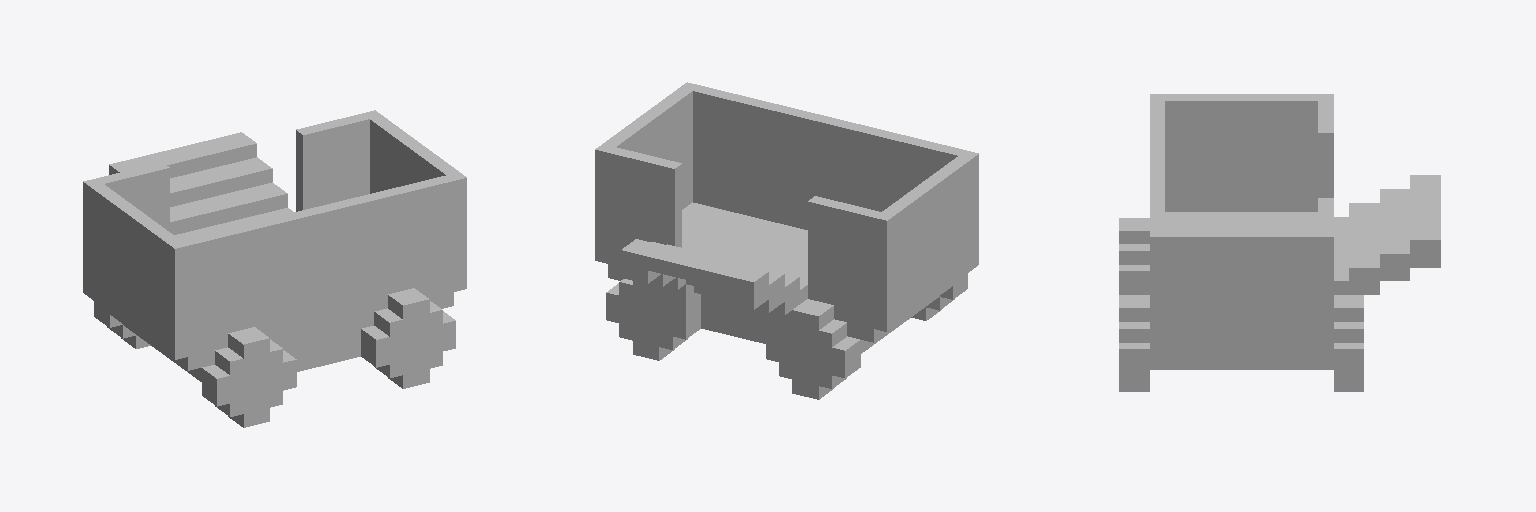
Rendered from mine cart open 0.66.obj.
3 views of the same model, side by side, from view 1: azimuth 30°, elevation 25°; view 2: azimuth 150°, elevation 25°; view 3: azimuth 270°, elevation 25° (orthographic).
Parts seen in each view (by area): view 1: object 1; view 2: object 1; view 3: object 1.
Boxes of the visible parts, x1=… form: object 1: x1=83, y1=110, x2=466, y2=427; object 1: x1=595, y1=82, x2=978, y2=399; object 1: x1=1119, y1=94, x2=1440, y2=391.
Bounding box in the file's own units: 2.2 × 1.3 × 2.1.